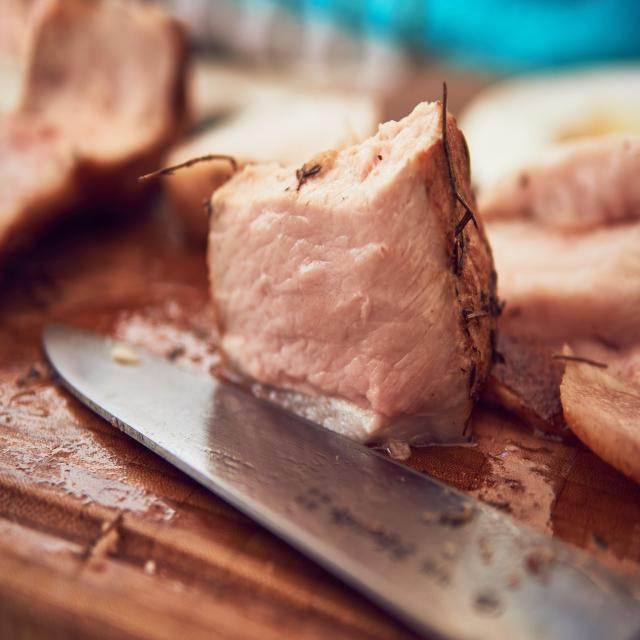carne de cerdo: (187, 88, 502, 464)
